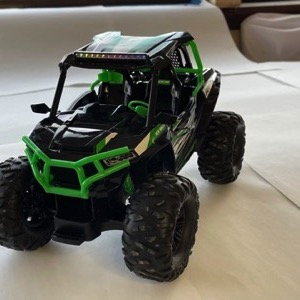polaris: (2, 29, 247, 285)
